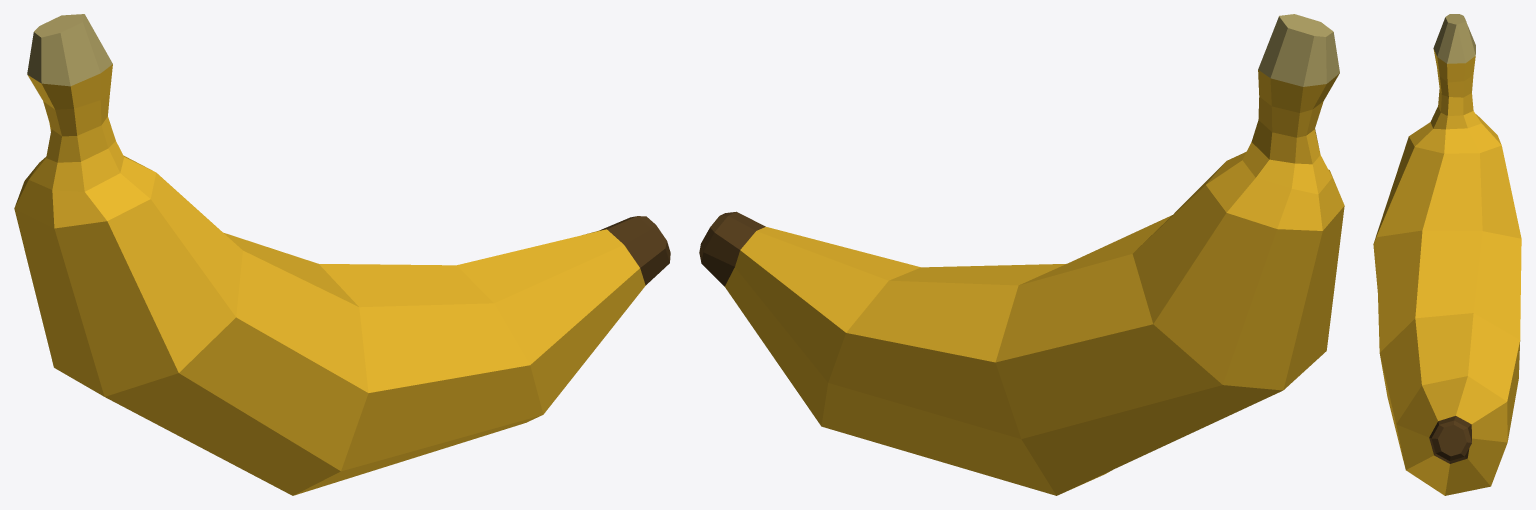
The model's file is Banana.glb.
The picture shows the model from 3 angles, left to right: view 1: azimuth 30°, elevation 25°; view 2: azimuth 150°, elevation 25°; view 3: azimuth 270°, elevation 25°; orthographic projection. The views are drawn at different scales.
Visible parts, largest first — view 1: Banana; view 2: Banana; view 3: Banana.
Part boxes in pixels (x1,y1,x2,y2): Banana: (14, 14, 670, 495); Banana: (699, 14, 1344, 495); Banana: (1373, 14, 1521, 495).
Size of the model in its own units: 0.8634 by 0.6717 by 0.2668.
